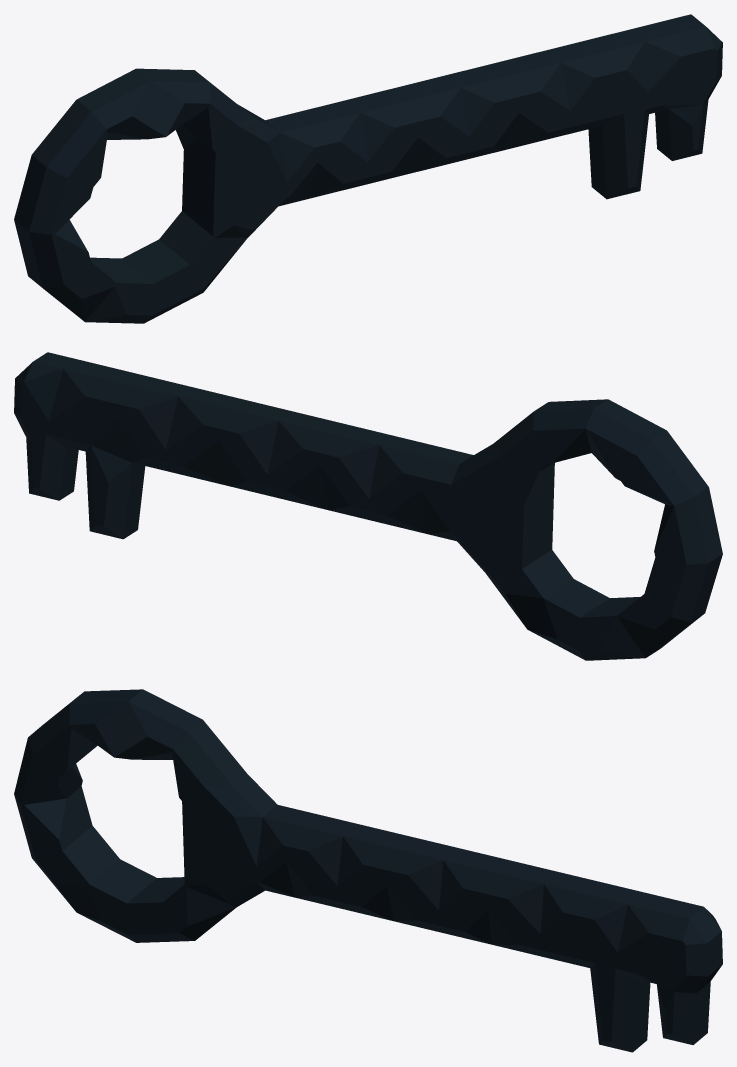
The model's file is black_key.glb.
3 views of the same model, one above another, from view 1: azimuth 30°, elevation 25°; view 2: azimuth 150°, elevation 25°; view 3: azimuth 330°, elevation 25° (orthographic).
Parts seen in each view (by area): view 1: Circle.024; view 2: Circle.024; view 3: Circle.024.
Boxes of the visible parts, x1=… form: Circle.024: x1=14, y1=14, x2=722, y2=323; Circle.024: x1=14, y1=352, x2=722, y2=660; Circle.024: x1=14, y1=689, x2=722, y2=1052.
Size of the model in its own units: 1.89 by 0.6483 by 0.217.
1 material, 1 textured.
